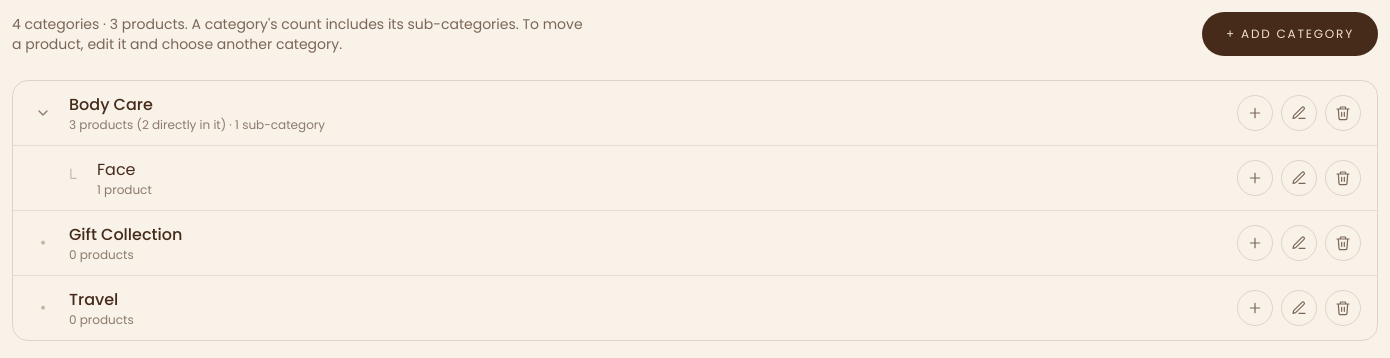
Test: CategoryManager: the tree › sub-categories can be hidden and shown again
Click the button named "Hide the sub-categories of Body Care". click: (43, 113)
box: x1=29 y1=99 x2=57 y2=127
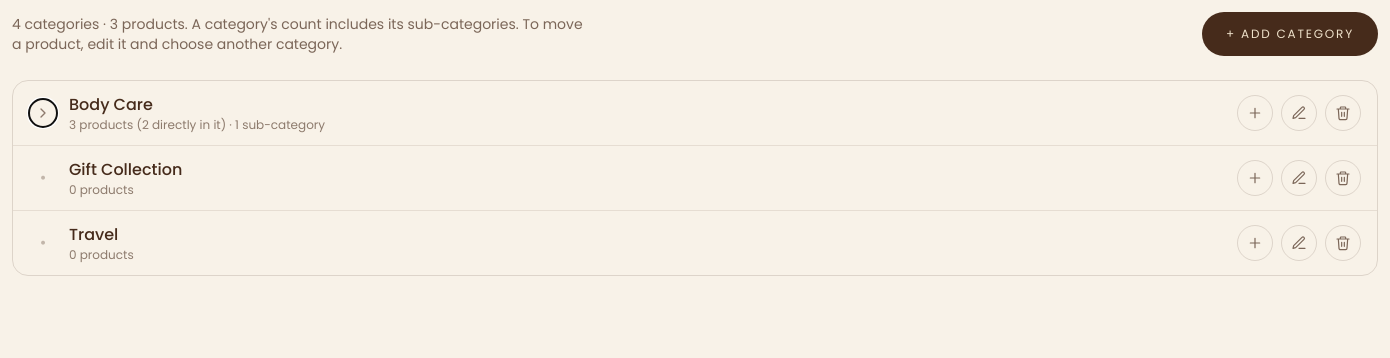
Expected: the text "Face" is gone
Click the button named "Show the sub-categories of Body Care". click: (43, 113)
box: x1=29 y1=99 x2=57 y2=127
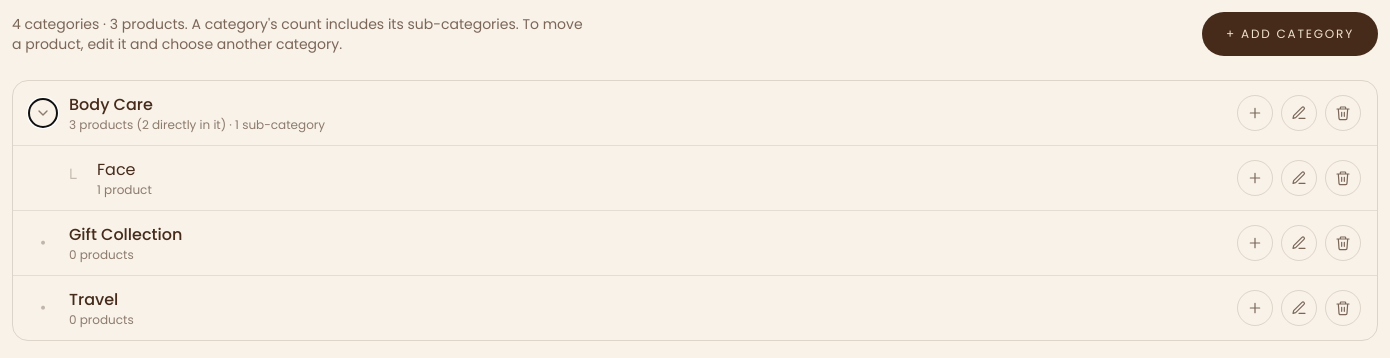
Expected: the list item "Face" is shown, x1=97 y1=158 x2=136 y2=181
